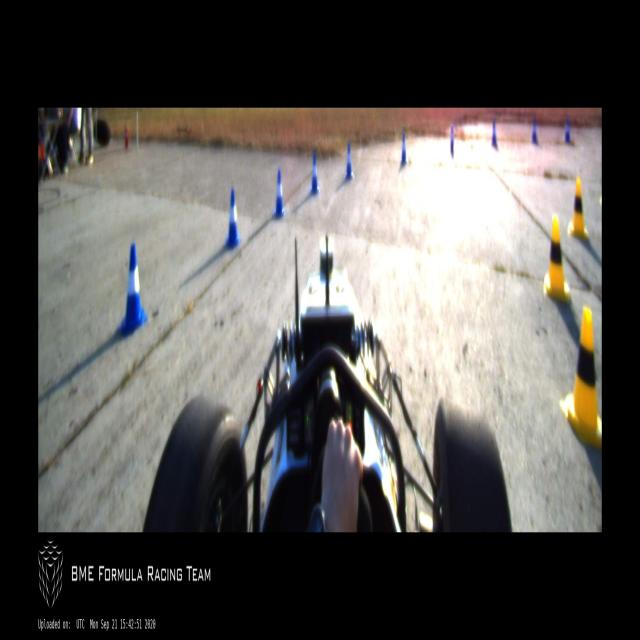blue_cone: (117, 243, 147, 339), (224, 188, 241, 250), (272, 170, 286, 218), (309, 153, 320, 195), (344, 143, 354, 180), (400, 132, 408, 166), (531, 117, 538, 145), (563, 117, 570, 145), (491, 118, 497, 150), (449, 124, 455, 154)
yellow_cone: (559, 307, 602, 448), (542, 214, 570, 301), (567, 177, 589, 238)
